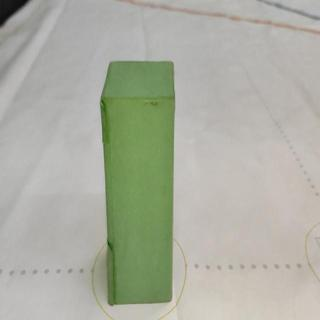greenbox: (99, 58, 178, 306)
